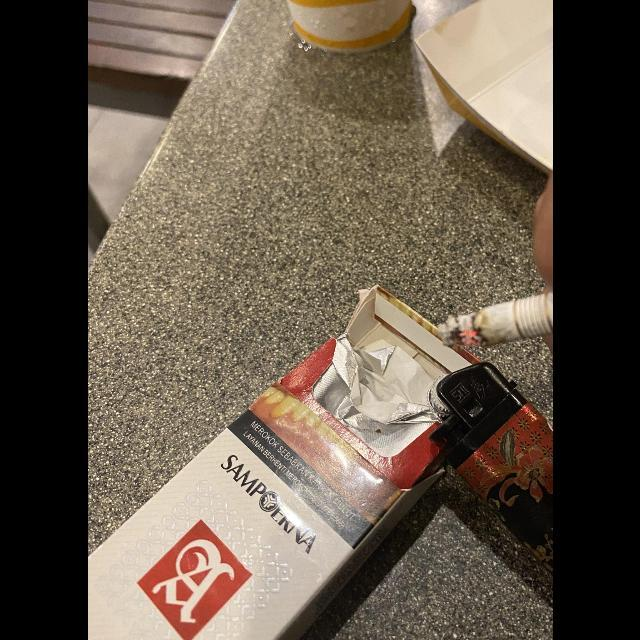rokok: (438, 292, 552, 344)
